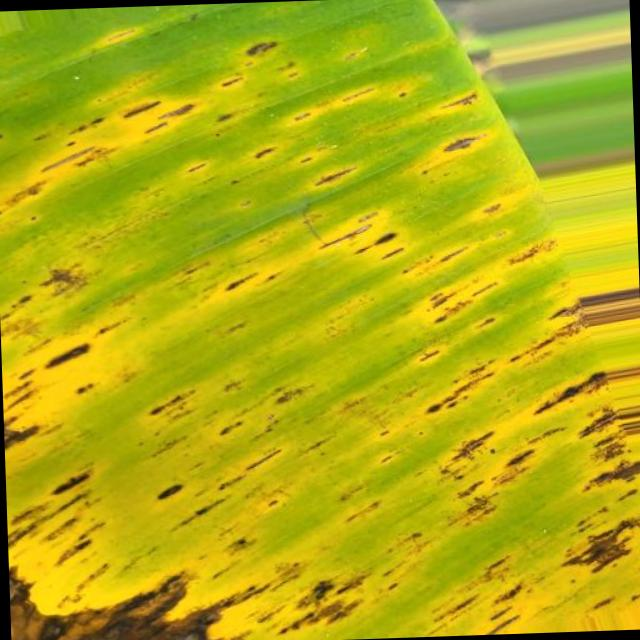Banana_Black_Sigatoka: (0, 43, 478, 327), (399, 324, 640, 628), (7, 408, 286, 640)
